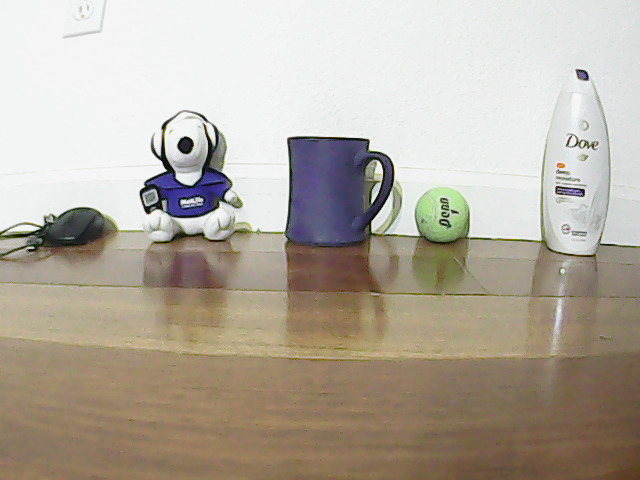ball: (419, 181, 471, 244)
mouse: (49, 201, 102, 244)
mug: (285, 129, 394, 259)
snoopy: (150, 109, 243, 243)
soap: (544, 61, 611, 261)
